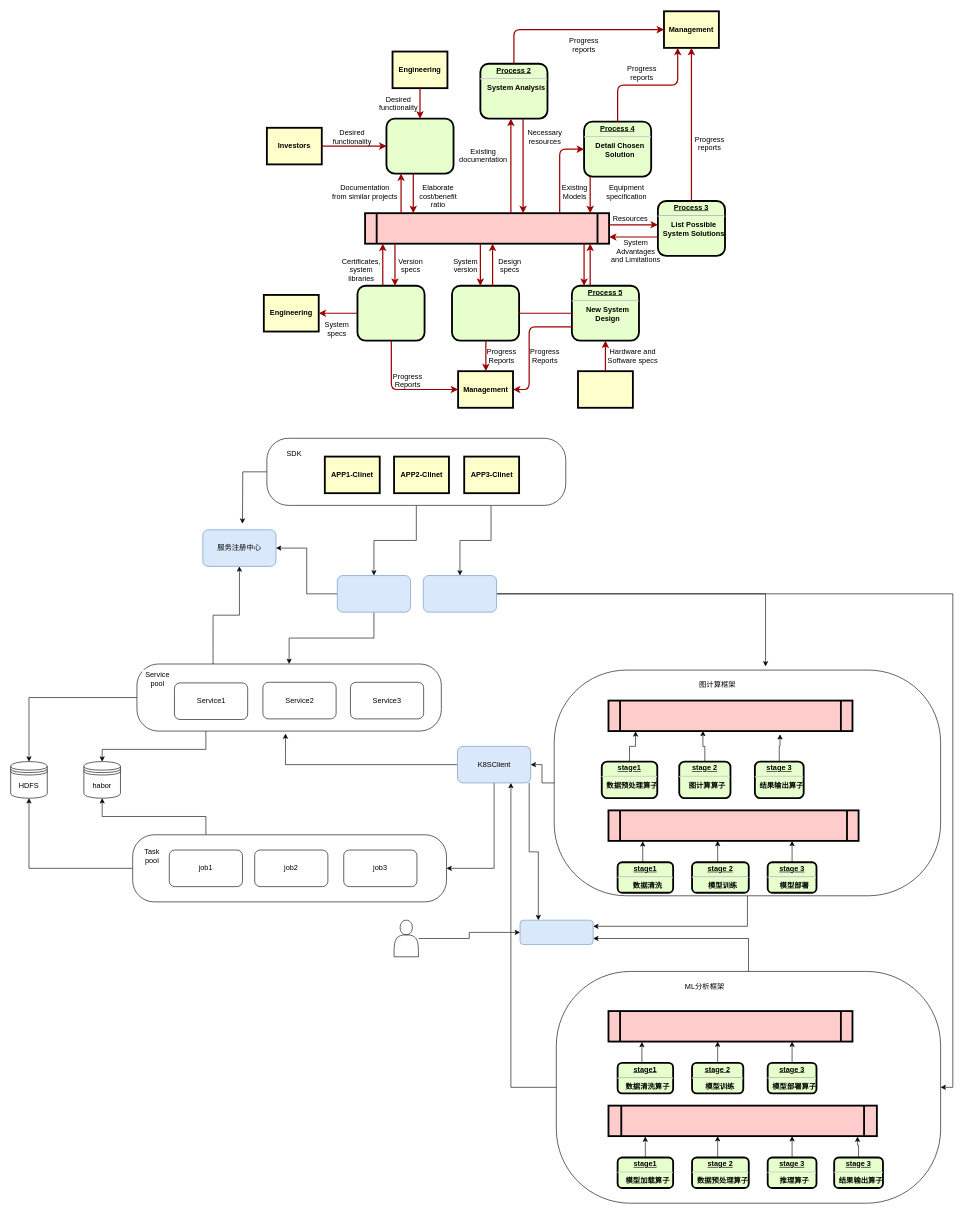
The diagram is 969 pixels wide and 1214 high, and some of its shapes have lost their labels. Here are the shapes that lost their labels. From the top down, the centre of each, then its label:
point (419, 145): Process 1 System Study Preparation
point (487, 228): ON-DEMAND SYSTEM DEVELOPMENT
point (390, 313): Process 6 New System Construction
point (485, 313): Process 7 New System Startup and Testing
point (605, 389): Vendors
point (374, 593): 服务网关
point (460, 593): 任务调度
point (730, 715): 图计算pipeline
point (733, 825): 深度图模型pipeline
point (556, 932): 模型管理
point (730, 1026): ML训练pipeline
point (742, 1120): ML推理pipeline
